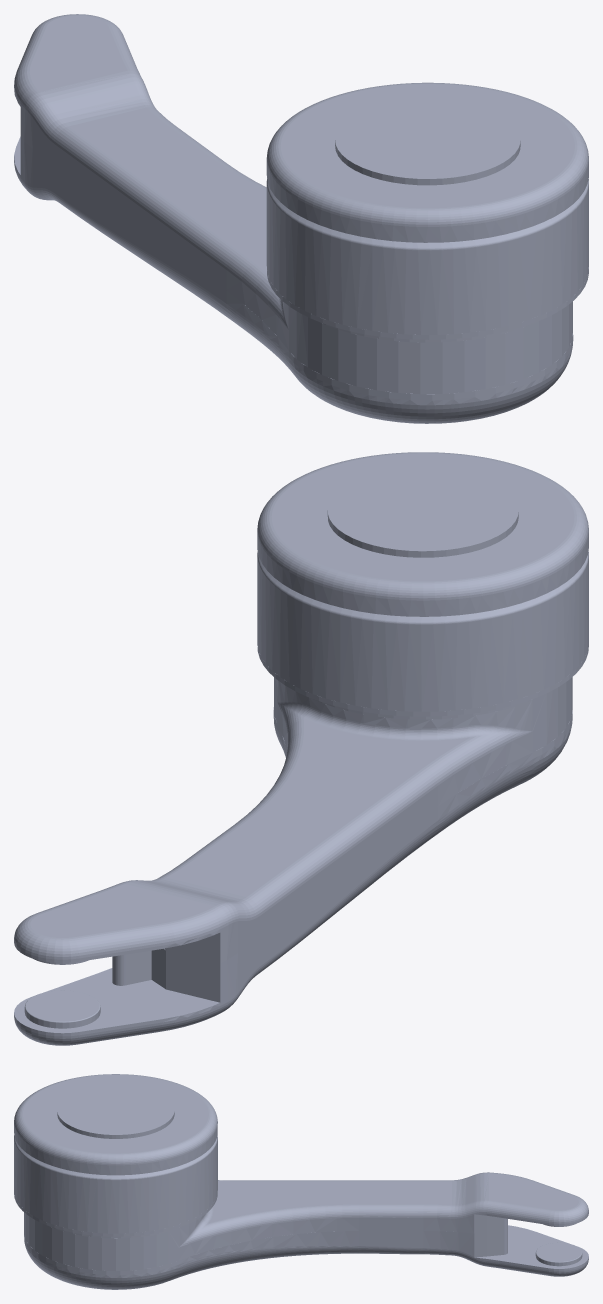
The model's file is thigh_mirror.obj.
The picture shows the model from 3 angles, top to bottom: view 1: azimuth 30°, elevation 25°; view 2: azimuth 150°, elevation 25°; view 3: azimuth 270°, elevation 25°; orthographic projection. The views are drawn at different scales.
Visible parts, largest first — view 1: Thigh_Mirror-mesh; view 2: Thigh_Mirror-mesh; view 3: Thigh_Mirror-mesh.
Part boxes in pixels (x1=…): Thigh_Mirror-mesh: x1=14, y1=14, x2=588, y2=423; Thigh_Mirror-mesh: x1=14, y1=452, x2=588, y2=1045; Thigh_Mirror-mesh: x1=14, y1=1074, x2=588, y2=1289.
Bounding box in the file's own units: 0.092 × 0.0783 × 0.2595.
